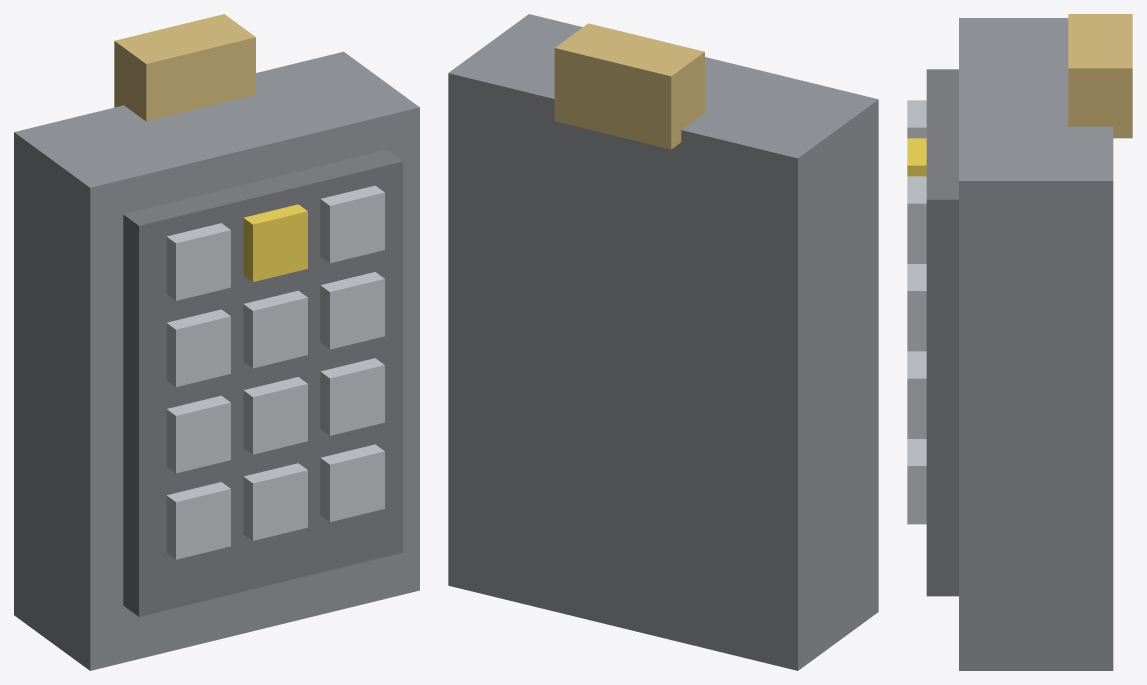
Rendered from codelock.glb.
3 renders of one model, left to right at view 1: azimuth 30°, elevation 25°; view 2: azimuth 150°, elevation 25°; view 3: azimuth 270°, elevation 25°, orthographic. The views are drawn at different scales.
Parts seen in each view (by area): view 1: codelock; view 2: codelock; view 3: codelock.
Boxes of the visible parts, box(x1,y1,x2,y2) form: codelock: box(14, 14, 419, 670); codelock: box(448, 14, 878, 670); codelock: box(907, 14, 1132, 670).
Size of the model in its own units: 0.3 by 0.47 by 0.175.
